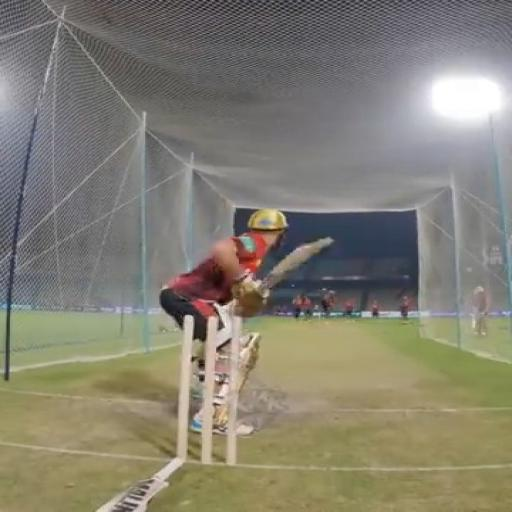Cricket bat: (263, 237, 333, 288)
